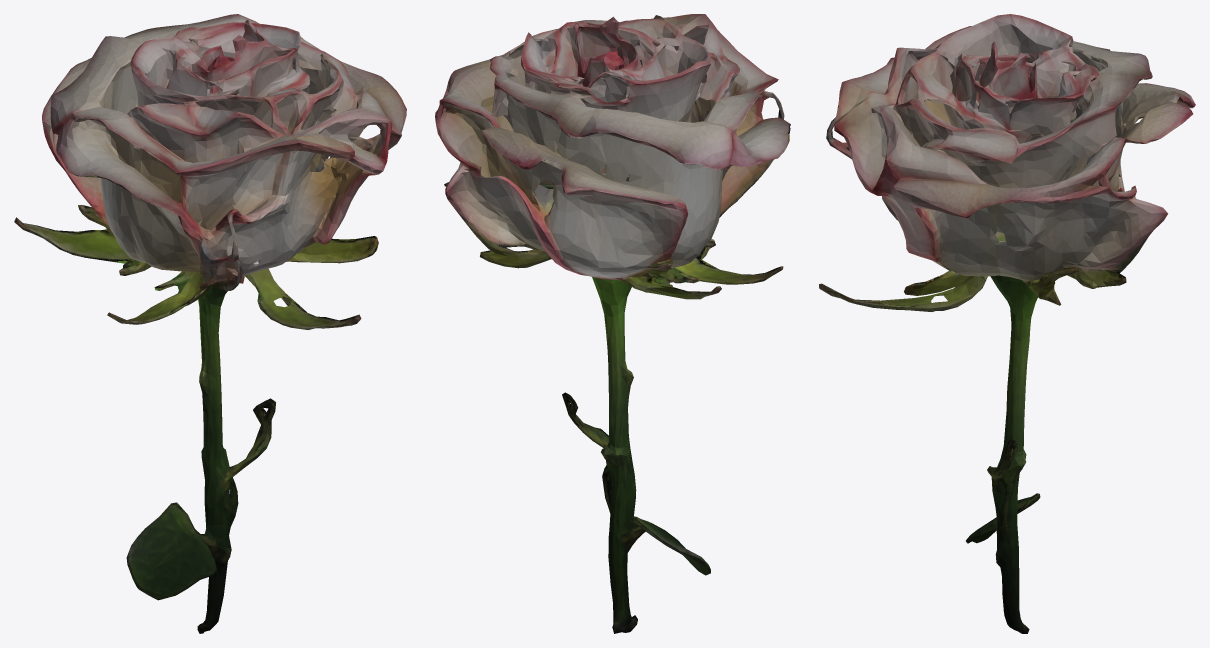
The picture shows the model from 3 angles, left to right: view 1: azimuth 30°, elevation 25°; view 2: azimuth 150°, elevation 25°; view 3: azimuth 270°, elevation 25°; orthographic projection.
Parts seen in each view (by area): view 1: world; view 2: world; view 3: world.
Part boxes in pixels (x1,y1,x2,y2): world: [14, 14, 406, 633]; world: [435, 14, 790, 633]; world: [819, 14, 1195, 633].
Bounding box in the file's own units: 0.5392 × 0.964 × 0.5472.
Materials: 1 (1 with a texture image).
